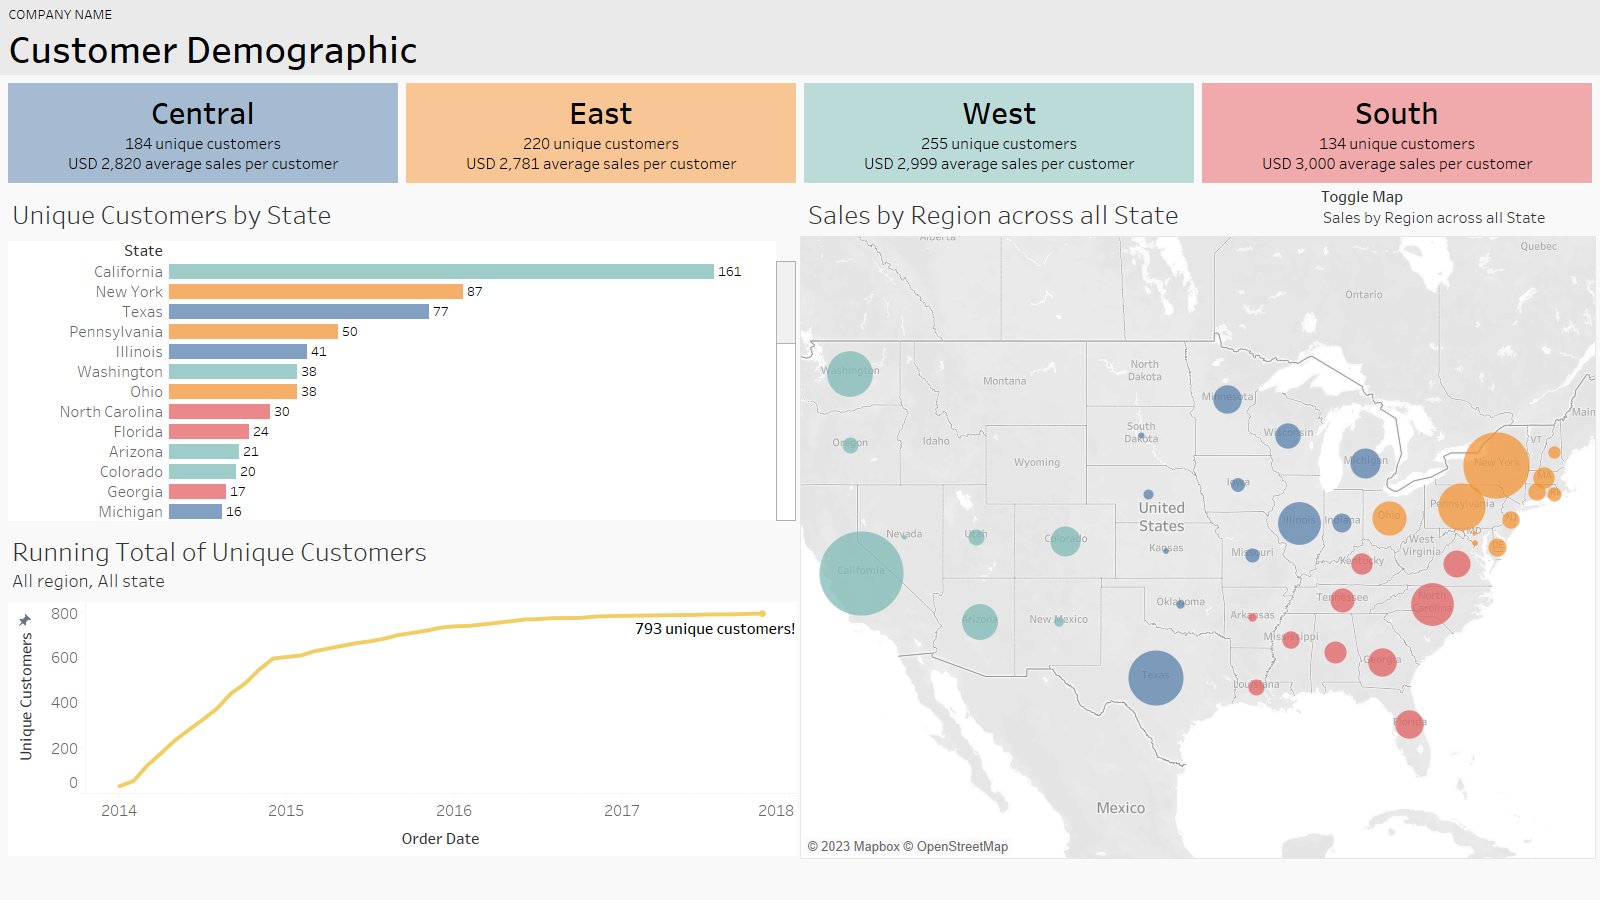

What the dashboard file says about the page in this screenshot:
{"tool":"tableau","page":{"name":"Customer Demographic","canvas":[1600,900],"ordinal":0},"visuals":[{"type":"text","box":[0,0,1600,75]},{"type":"blank","box":[0,0,663.4,77.4]},{"type":"text","box":[663.4,0,836.3,77.4]},{"type":"blank","box":[1499.7,0,100.3,77.4]},{"type":"blank","box":[0,77.4,72.5,68]},{"type":"text","box":[72.5,77.4,1527.5,68]},{"type":"worksheet","title":"Customer Central","mark":"Square","box":[4,79,398,108]},{"type":"worksheet","title":"Customer East","mark":"Square","box":[402,79,398,108]},{"type":"worksheet","title":"Customer West","mark":"Square","box":[800,79,398,108]},{"type":"worksheet","title":"Customer South","mark":"Square","box":[1198,79,398,108]},{"type":"blank","box":[0,145.5,1600,5.2]},{"type":"text","box":[0,150.7,400,83.7]},{"type":"text","box":[400,150.7,400,83.7]},{"type":"text","box":[800,150.7,400,83.7]},{"type":"text","box":[1200,150.7,400,83.7]},{"type":"parameter","param":"[Parameters].[Parameter 2]","box":[1321,185,278,50]},{"type":"worksheet","title":"Unique Customers by State","mark":"Automatic","rows":["STATE"],"cols":["CUSTOMER_ID"],"box":[4,187,796,337]},{"type":"worksheet","title":"Map Title","mark":"Automatic","box":[800,187,796,48.6]},{"type":"blank","box":[0,234.4,1600,9.4]},{"type":"worksheet","title":"Total Sales Map","mark":"Automatic","box":[800,235.6,796,623.4]},{"type":"text","box":[0,243.8,800,306.6]},{"type":"text","box":[800,243.8,800,612.2]},{"type":"text","box":[884.3,415.5,693.3,155.9]},{"type":"worksheet","title":"Running Total Unique Customer","mark":"Automatic","rows":["CUSTOMER_ID"],"cols":["ORDER_DATE"],"box":[4,524,796,336]},{"type":"text","box":[0,550.5,800,305.6]},{"type":"text","box":[884.3,571.4,693.3,68]},{"type":"text","box":[884.3,639.4,693.3,68]},{"type":"text","box":[884.3,707.5,693.3,142.3]},{"type":"worksheet","title":"Top Sales Category Map","mark":"Multipolygon","box":[800,859,796,1]}]}

Visuals, with their boxes in screenshot pixels (x1, y1, x2, y2), scaled from the page's 1600x900 canvas onto the 1600x900 screenshot:
text: pyautogui.locateOnScreen(0, 0, 1599, 75)
blank: pyautogui.locateOnScreen(0, 0, 663, 77)
text: pyautogui.locateOnScreen(663, 0, 1500, 77)
blank: pyautogui.locateOnScreen(1500, 0, 1599, 77)
blank: pyautogui.locateOnScreen(0, 77, 72, 145)
text: pyautogui.locateOnScreen(72, 77, 1599, 145)
"Customer Central" worksheet (Square marks): pyautogui.locateOnScreen(4, 79, 402, 187)
"Customer East" worksheet (Square marks): pyautogui.locateOnScreen(402, 79, 800, 187)
"Customer West" worksheet (Square marks): pyautogui.locateOnScreen(800, 79, 1198, 187)
"Customer South" worksheet (Square marks): pyautogui.locateOnScreen(1198, 79, 1596, 187)
blank: pyautogui.locateOnScreen(0, 146, 1599, 151)
text: pyautogui.locateOnScreen(0, 151, 400, 234)
text: pyautogui.locateOnScreen(400, 151, 800, 234)
text: pyautogui.locateOnScreen(800, 151, 1200, 234)
text: pyautogui.locateOnScreen(1200, 151, 1599, 234)
parameter: pyautogui.locateOnScreen(1321, 185, 1599, 235)
"Unique Customers by State" worksheet: pyautogui.locateOnScreen(4, 187, 800, 524)
"Map Title" worksheet: pyautogui.locateOnScreen(800, 187, 1596, 236)
blank: pyautogui.locateOnScreen(0, 234, 1599, 244)
"Total Sales Map" worksheet: pyautogui.locateOnScreen(800, 236, 1596, 859)
text: pyautogui.locateOnScreen(0, 244, 800, 550)
text: pyautogui.locateOnScreen(800, 244, 1599, 856)
text: pyautogui.locateOnScreen(884, 416, 1578, 571)
"Running Total Unique Customer" worksheet: pyautogui.locateOnScreen(4, 524, 800, 860)
text: pyautogui.locateOnScreen(0, 550, 800, 856)
text: pyautogui.locateOnScreen(884, 571, 1578, 639)
text: pyautogui.locateOnScreen(884, 639, 1578, 707)
text: pyautogui.locateOnScreen(884, 708, 1578, 850)
"Top Sales Category Map" worksheet (Multipolygon marks): pyautogui.locateOnScreen(800, 859, 1596, 860)
